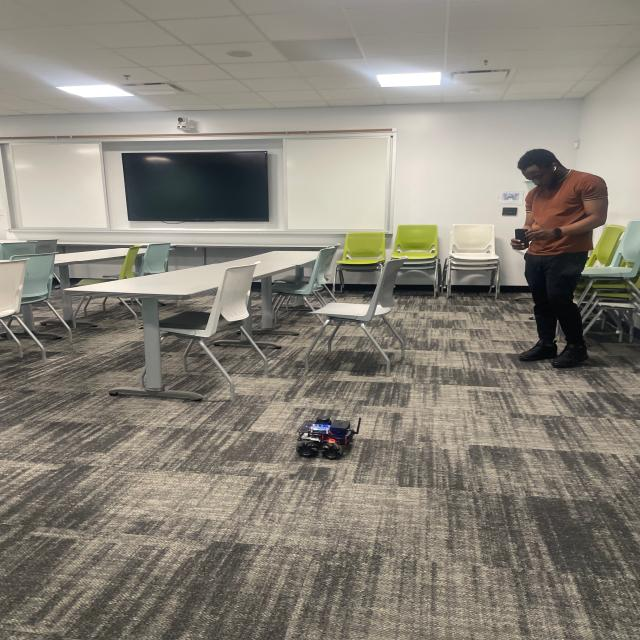ArduinoCar3: (298, 409, 366, 467)
